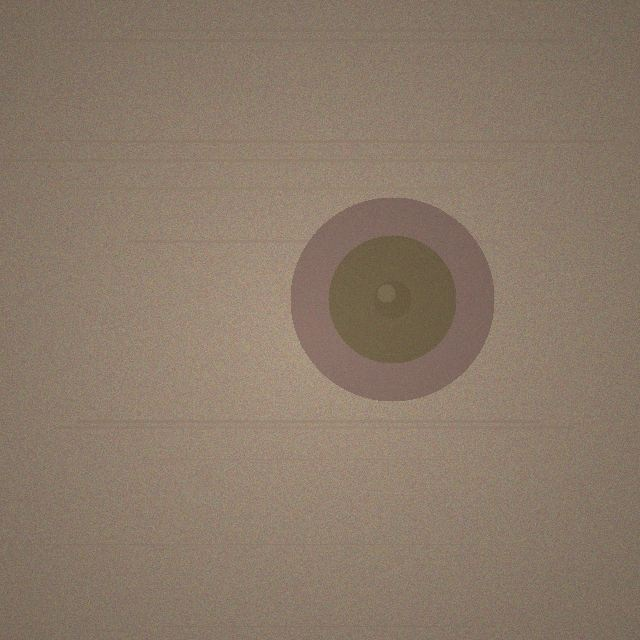good: (290, 197, 494, 401)
